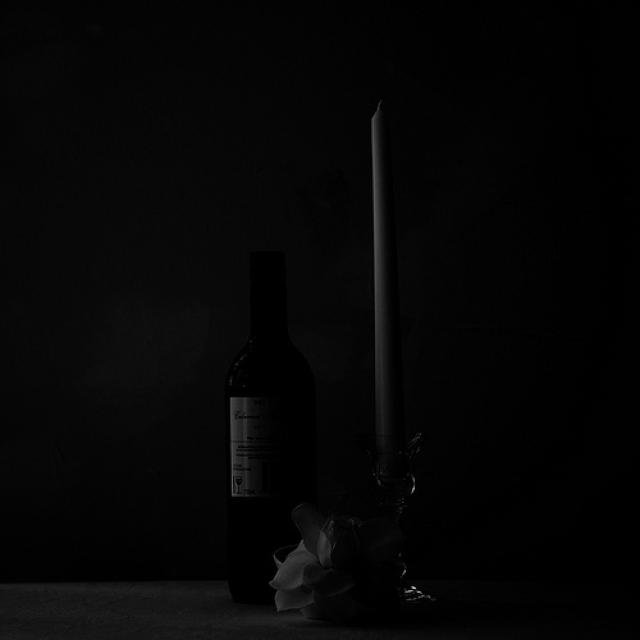Bottle: (188, 230, 333, 584)
